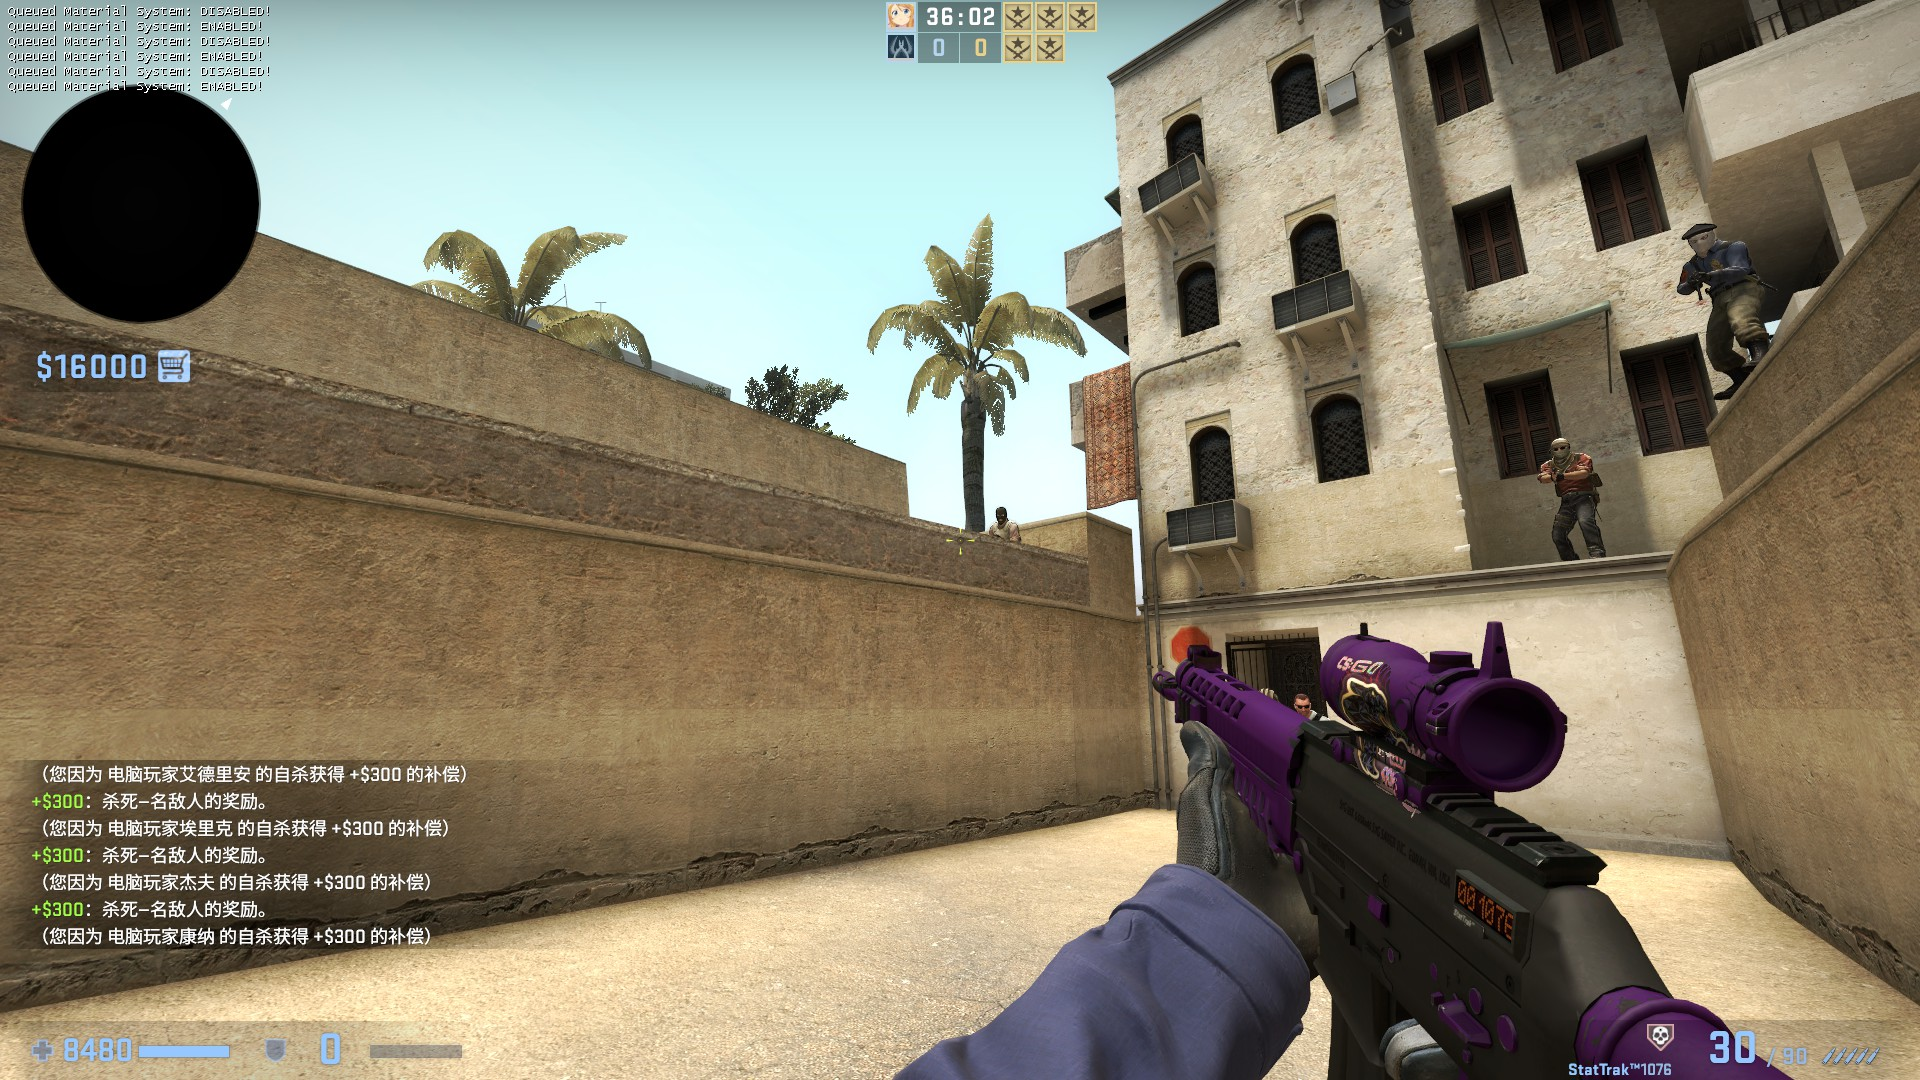head: (1680, 220, 1717, 254), (1548, 437, 1571, 460), (1293, 694, 1310, 714), (993, 505, 1008, 525)
